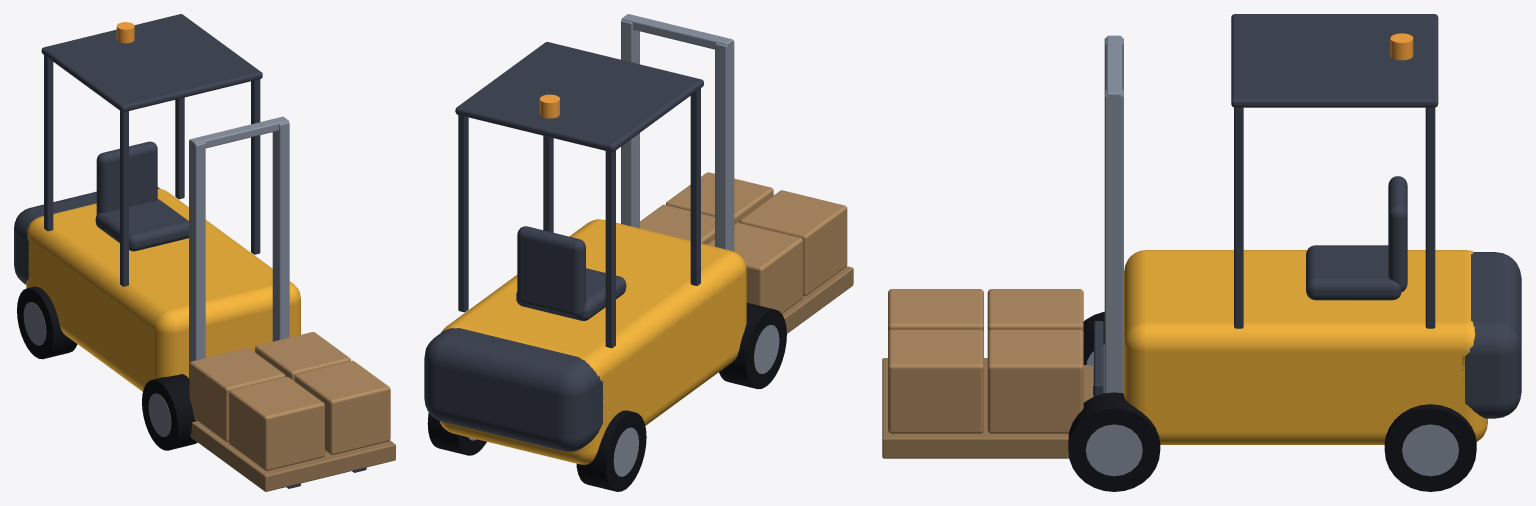
File: forklift.glb
3 renders of one model, left to right at view 1: azimuth 30°, elevation 25°; view 2: azimuth 150°, elevation 25°; view 3: azimuth 270°, elevation 25°, orthographic. The views are drawn at different scales.
Parts seen in each view (by area): view 1: chassis, guard, mast, box2, box3, box0, pallet, wheel0, forklift, seat, wheel2, box1 (+1 smaller); view 2: chassis, guard, counterweight, mast, box2, forklift, box0, wheel0, wheel2, box3, box1, pallet (+3 smaller); view 3: chassis, guard, box3, box1, counterweight, mast, wheel1, wheel3, pallet, seat, box0, box2 (+3 smaller).
Part boxes in pixels (bbox=[...]): chassis: bbox=[26, 188, 300, 391]; guard: bbox=[41, 14, 262, 286]; mast: bbox=[189, 116, 289, 378]; box2: bbox=[229, 376, 324, 470]; box3: bbox=[294, 360, 390, 454]; box0: bbox=[189, 348, 285, 442]; pallet: bbox=[190, 421, 395, 491]; wheel0: bbox=[142, 374, 197, 450]; forklift: bbox=[96, 141, 157, 214]; seat: bbox=[95, 199, 188, 251]; wheel2: bbox=[17, 286, 77, 359]; box1: bbox=[255, 332, 350, 381]; chassis: bbox=[439, 219, 746, 464]; guard: bbox=[455, 42, 703, 348]; counterweight: bbox=[424, 328, 604, 451]; mast: bbox=[621, 14, 734, 251]; box2: bbox=[739, 190, 847, 296]; forklift: bbox=[517, 226, 585, 317]; box0: bbox=[707, 222, 802, 313]; wheel0: bbox=[719, 302, 786, 389]; wheel2: bbox=[576, 410, 646, 491]; box3: bbox=[666, 172, 773, 223]; box1: bbox=[640, 204, 714, 244]; pallet: bbox=[782, 266, 853, 333]; chassis: bbox=[1124, 250, 1487, 444]; guard: bbox=[1231, 14, 1438, 328]; box3: bbox=[888, 329, 983, 433]; box1: bbox=[987, 329, 1083, 433]; counterweight: bbox=[1462, 252, 1521, 418]; mast: bbox=[1104, 35, 1123, 393]; wheel1: bbox=[1068, 392, 1160, 491]; wheel3: bbox=[1384, 404, 1476, 491]; pallet: bbox=[882, 358, 1093, 458]; seat: bbox=[1306, 245, 1401, 300]; box0: bbox=[987, 289, 1083, 332]; box2: bbox=[888, 289, 983, 332].
Size of the model in its own units: 1.21 by 2.33 by 3.34.
